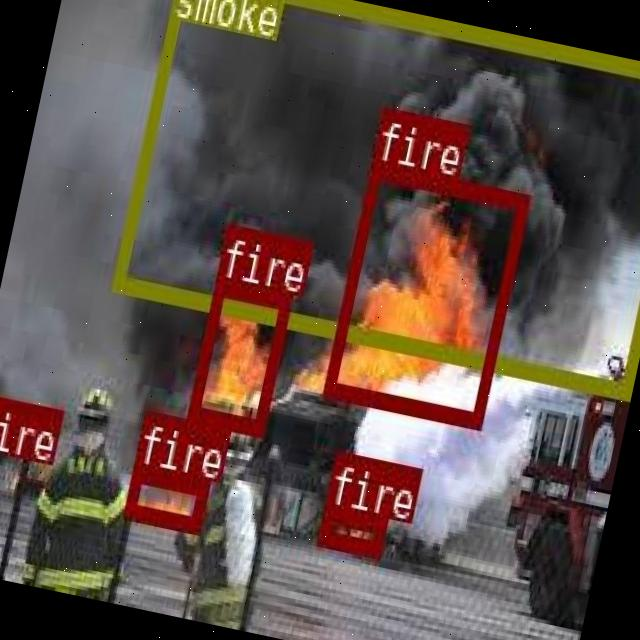fire: (320, 158, 528, 427), (186, 277, 290, 433), (121, 462, 208, 529), (314, 502, 384, 554)
smoke: (109, 0, 640, 394)
